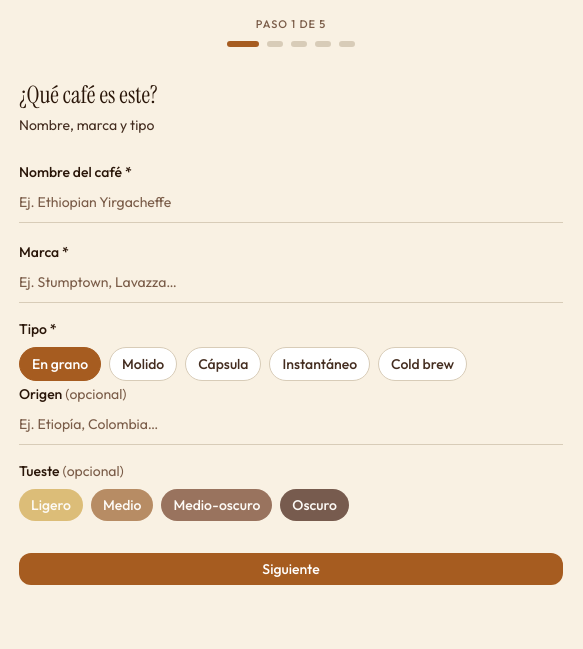
Test case: CoffeeForm step gating › blocks advancing past step 1 when name/brand are empty
The image size is (583, 649).
What coordinates should you click on to do the following:
click the button "Siguiente"
I would click on:
 (291, 568)
Its box is [19, 552, 563, 584].
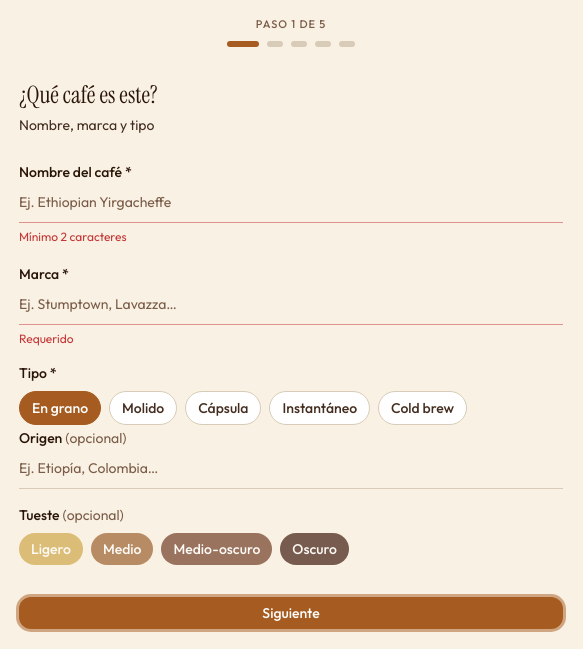
expect the text "Paso 1 de 5" is shown: met, box [256, 16, 326, 32]
expect the text "Mínimo 2 caracteres" is shown: met, box [19, 228, 126, 244]
